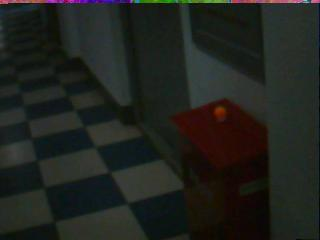oball: (213, 106, 226, 119)
